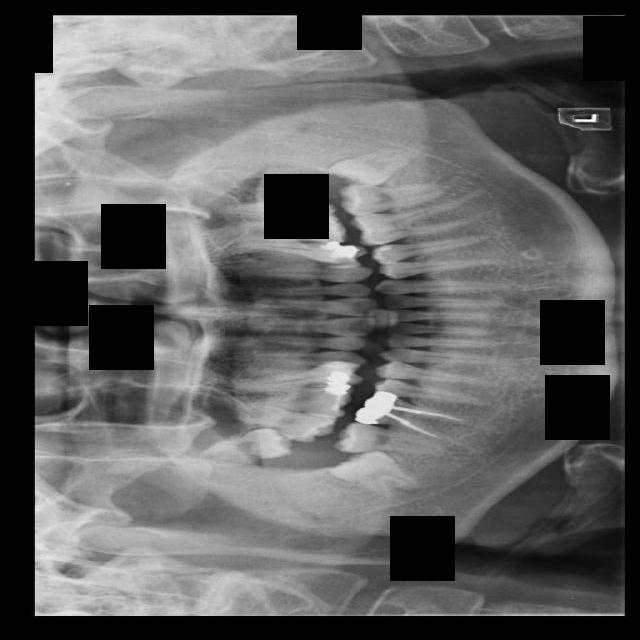3M ESPE Implant: (197, 422, 296, 470)
52: (285, 173, 340, 225), (350, 380, 402, 433), (307, 201, 351, 251), (310, 239, 368, 272), (313, 380, 354, 420), (319, 359, 366, 386), (371, 243, 405, 264)
73: (378, 392, 467, 449), (580, 49, 590, 52)
BioHorizons Implant: (216, 182, 338, 227)
Biomet 3i Implant: (325, 140, 417, 197)
Blue Sky Bio Implant: (338, 169, 447, 218)
Caries: (234, 400, 339, 446)
Implant: (333, 421, 445, 455)
Keystone Dental Implant: (327, 435, 425, 507)
